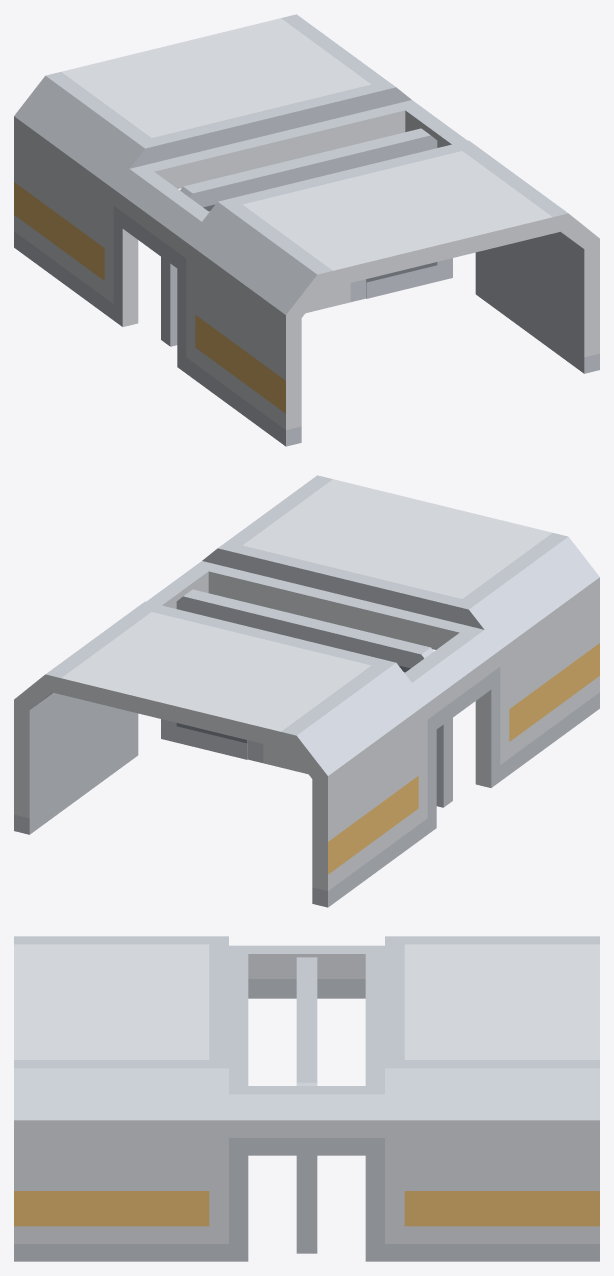
File: hangar_largeA.glb
The picture shows the model from 3 angles, top to bottom: view 1: azimuth 30°, elevation 25°; view 2: azimuth 150°, elevation 25°; view 3: azimuth 270°, elevation 25°; orthographic projection. The views are drawn at different scales.
Visible parts, largest first — view 1: hangar_largeA, hangar_largeA.003, hangar_largeA.002; view 2: hangar_largeA, hangar_largeA.002, hangar_largeA.003; view 3: hangar_largeA, hangar_largeA.002, hangar_largeA.003.
Part boxes in pixels (<box>): hangar_largeA: <box>14,14,599,446</box>; hangar_largeA.003: <box>161,135,452,346</box>; hangar_largeA.002: <box>161,128,429,339</box>; hangar_largeA: <box>14,475,599,907</box>; hangar_largeA.002: <box>161,590,444,807</box>; hangar_largeA.003: <box>184,589,452,806</box>; hangar_largeA: <box>14,936,599,1261</box>; hangar_largeA.002: <box>297,957,317,1253</box>; hangar_largeA.003: <box>296,957,316,1253</box>.
Size of the model in its own units: 6 by 3 by 9.
